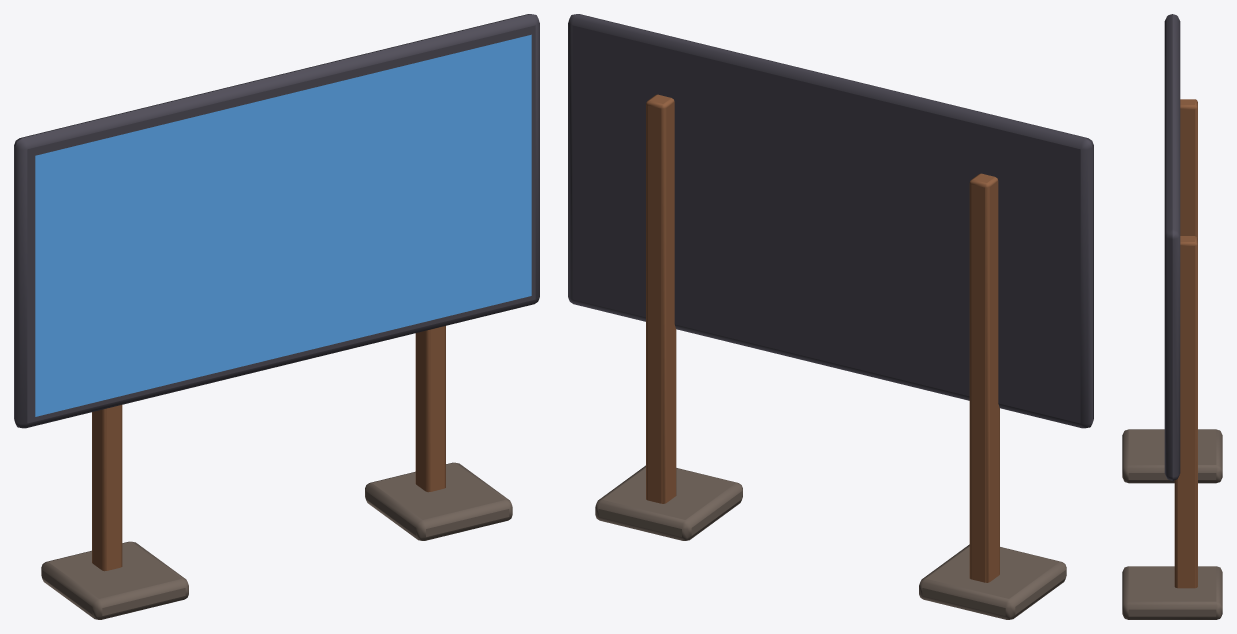
The model's file is era_led_billboard.glb.
3 renders of one model, left to right at view 1: azimuth 30°, elevation 25°; view 2: azimuth 150°, elevation 25°; view 3: azimuth 270°, elevation 25°, orthographic. The views are drawn at different scales.
Visible parts, largest first — view 1: advert_screen, era_led_billboard; view 2: era_led_billboard; view 3: era_led_billboard.
Boxes of the visible parts, x1,y1,x2,y2 form: advert_screen: (35, 34, 531, 416); era_led_billboard: (14, 14, 539, 619); era_led_billboard: (568, 14, 1093, 619); era_led_billboard: (1122, 14, 1222, 619).
Size of the model in its own units: 3.4 by 2.95 by 0.65.
